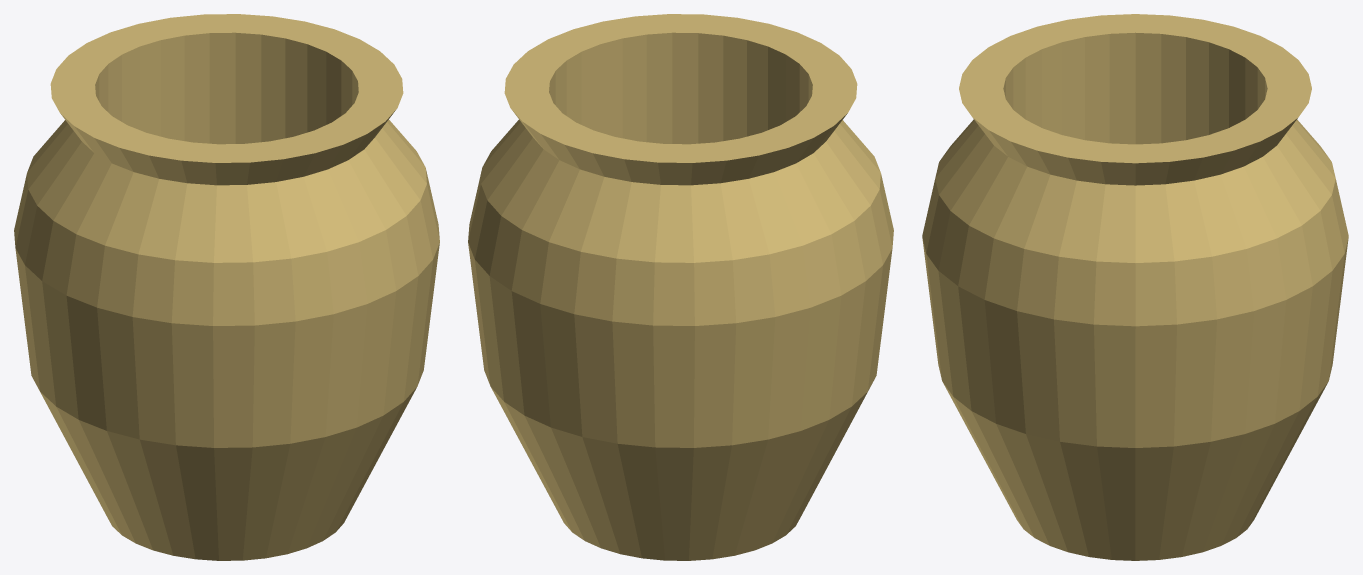
The model's file is jug.fbx.
3 renders of one model, left to right at view 1: azimuth 30°, elevation 25°; view 2: azimuth 150°, elevation 25°; view 3: azimuth 270°, elevation 25°, orthographic.
Visible parts, largest first — view 1: Cylinder; view 2: Cylinder; view 3: Cylinder.
Part boxes in pixels (<box>): Cylinder: <box>14,14,439,560</box>; Cylinder: <box>468,14,893,560</box>; Cylinder: <box>922,14,1348,560</box>.
Bounding box in the file's own units: 199 × 217 × 199.
